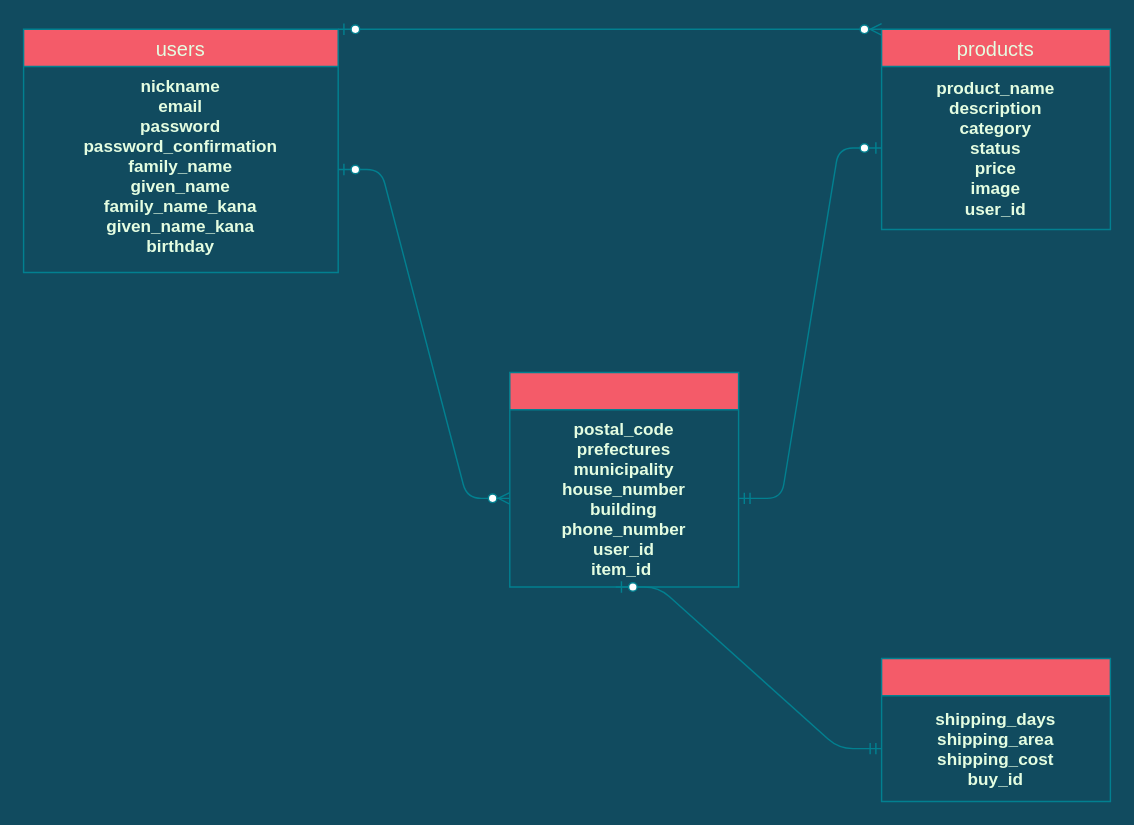
Image size: 1134x825. Some labels were removed from this diagram. Here are the shapes that lost their labels. From the top down, the box of each, then its label:
(508, 371, 739, 587): buys
(880, 657, 1110, 802): addresses
